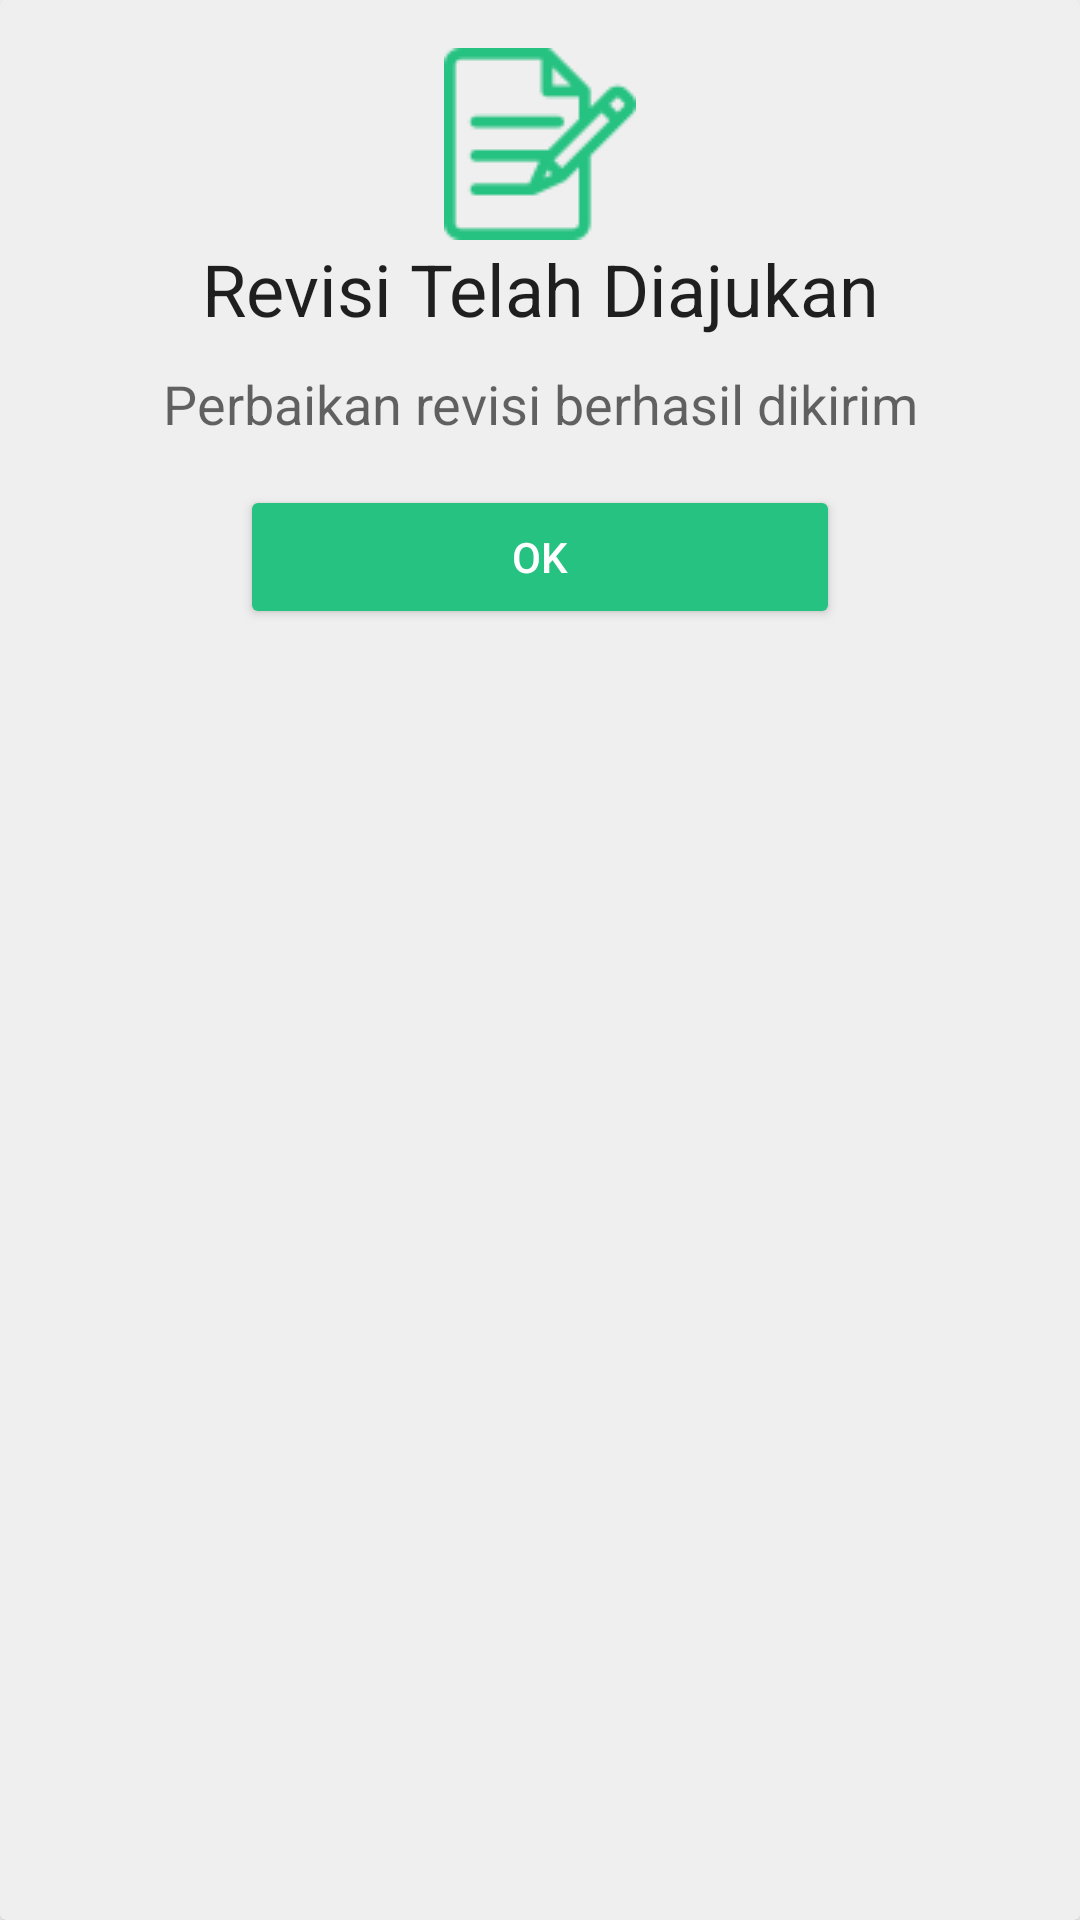

Locate icon controls on the screen. Image size 1080×1920, boxes as (x1, y1, x2, y2).
editfile: (444, 48, 636, 240)
